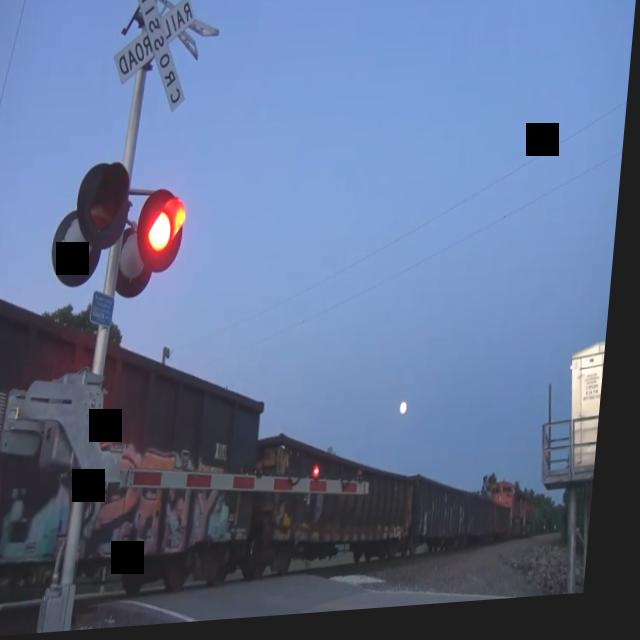gondola: (0, 235, 292, 622), (253, 423, 436, 596)
